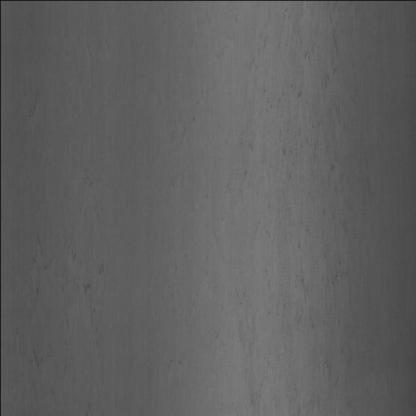silk_spot: (237, 58, 330, 250), (71, 200, 125, 324)
